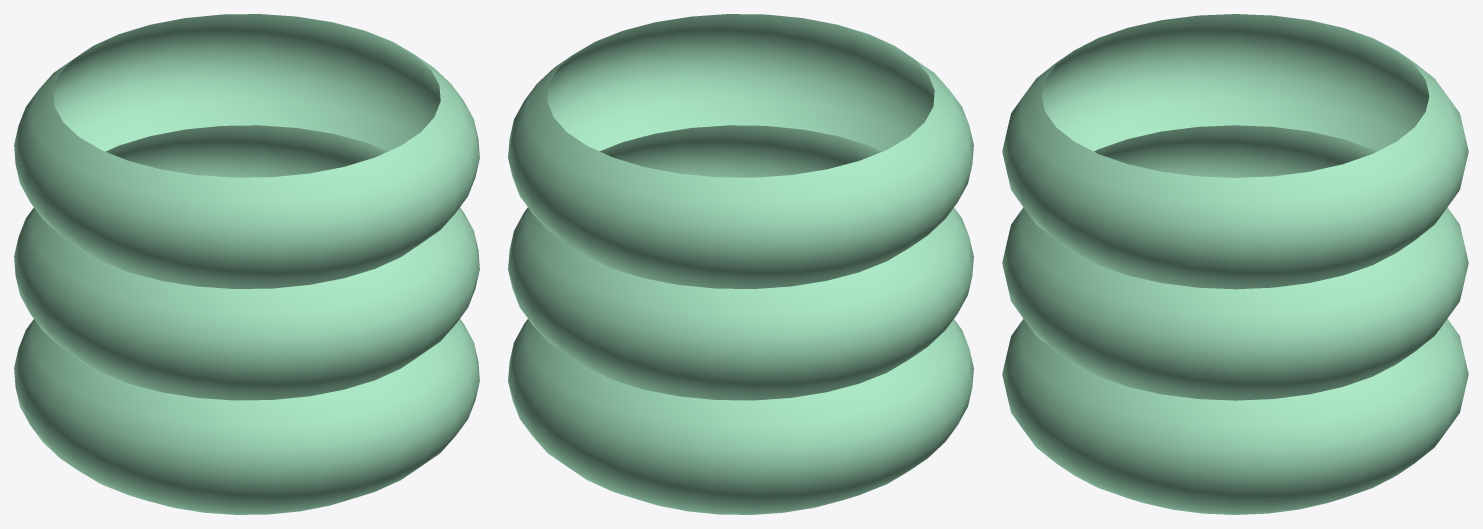
File: macrosa.fbx
3 views of the same model, side by side, from view 1: azimuth 30°, elevation 25°; view 2: azimuth 150°, elevation 25°; view 3: azimuth 270°, elevation 25° (orthographic).
Parts seen in each view (by area): view 1: maceta; view 2: maceta; view 3: maceta.
Boxes of the visible parts, x1,y1,x2,y2 form: maceta: [14, 14, 479, 514]; maceta: [508, 14, 973, 514]; maceta: [1002, 14, 1468, 514].
Size of the model in its own units: 9.63 by 8.24 by 9.63.
